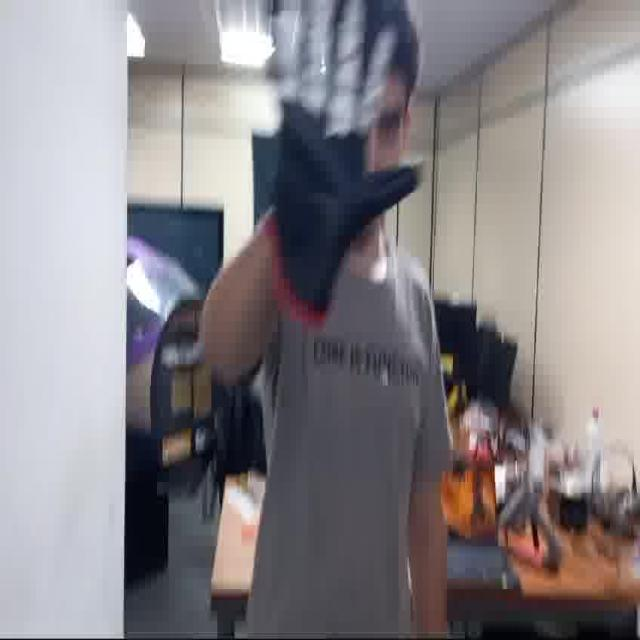Gloves: (269, 0, 417, 331)
